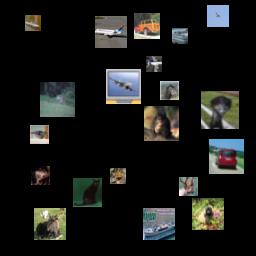airplane: (106, 69, 141, 104), (95, 16, 127, 48), (146, 56, 162, 72)
automobile: (209, 139, 244, 174), (134, 13, 160, 39)
bird: (201, 91, 239, 129), (207, 5, 229, 27), (30, 125, 49, 144)
cat: (73, 178, 102, 207)
deer: (40, 82, 75, 117), (34, 208, 66, 240), (179, 177, 198, 196)
dog: (192, 198, 224, 230)
frog: (144, 106, 179, 141), (31, 166, 50, 185), (110, 168, 126, 184)
ship: (143, 208, 175, 240), (25, 15, 41, 31), (172, 28, 188, 44)
